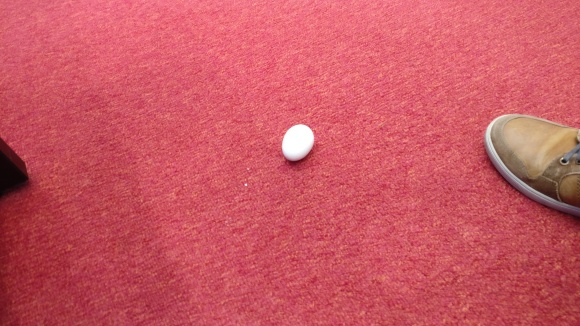egg: (280, 123, 315, 162)
